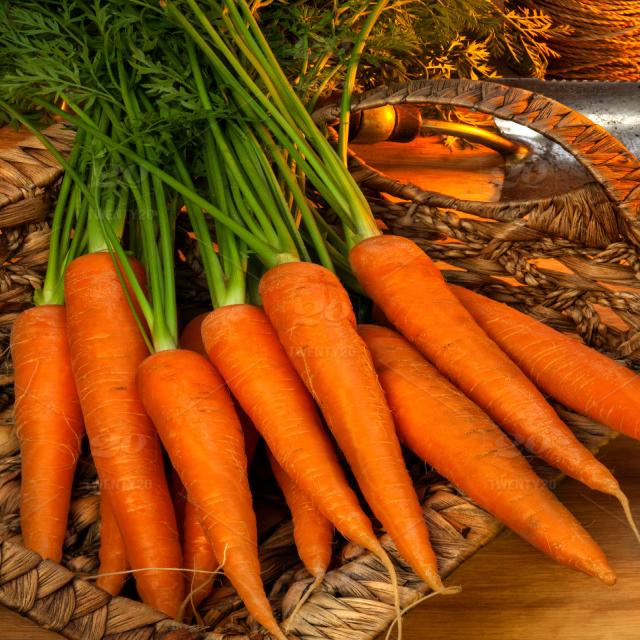Fresh_Carrot: (248, 259, 412, 621), (54, 252, 209, 576)
